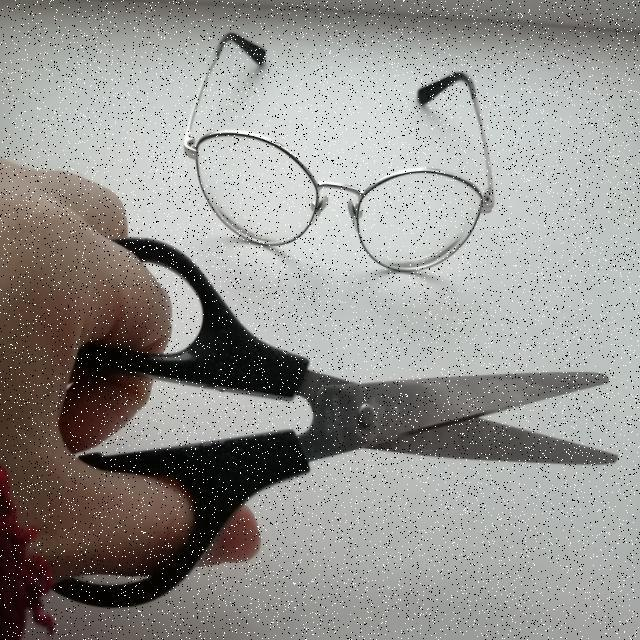scissors: (0, 207, 628, 640)
